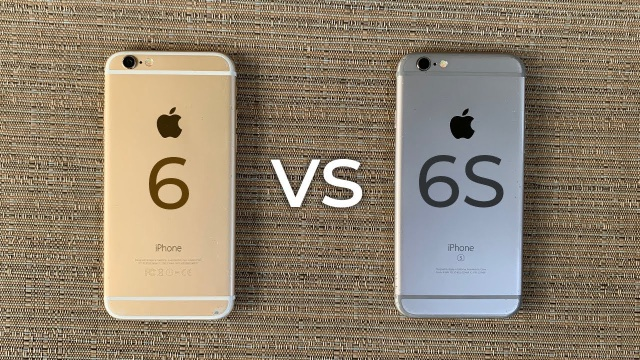apple: (435, 102, 486, 147), (154, 102, 185, 142)
